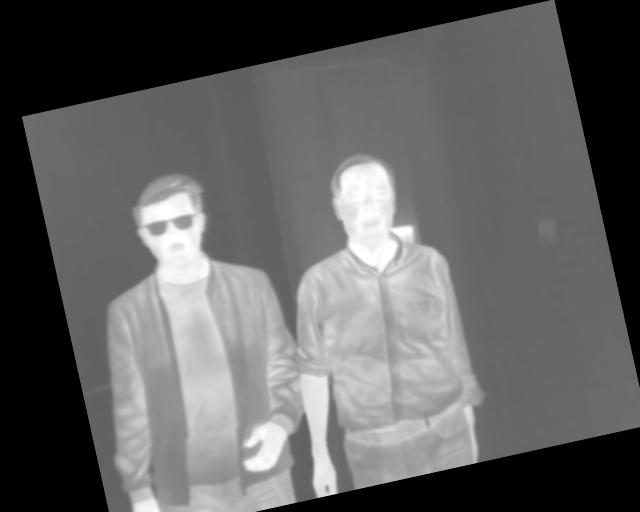face: (124, 166, 218, 277), (320, 146, 408, 255)
